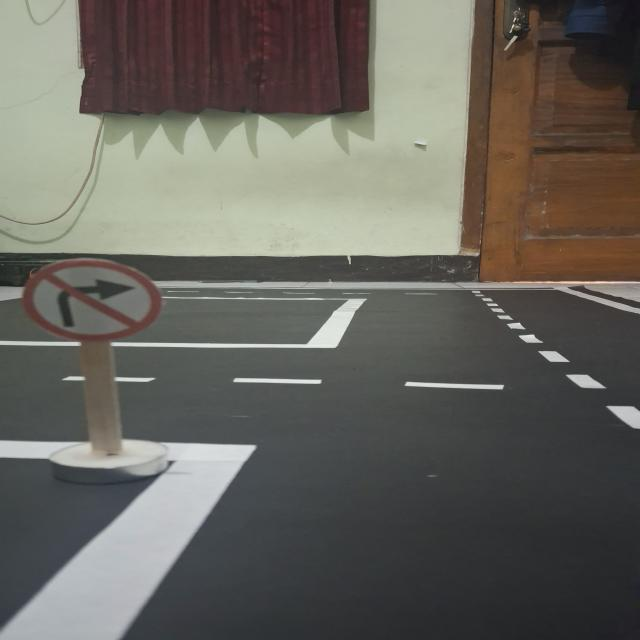Dilarang Belok Kanan: (21, 259, 163, 342)
